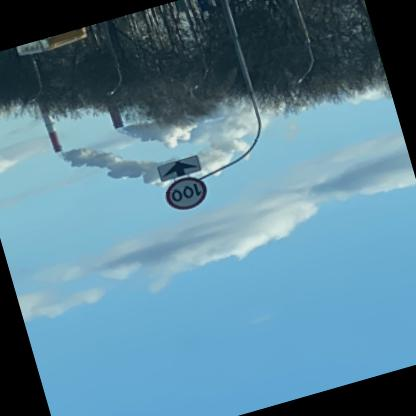speedlimit: (164, 174, 214, 216)
